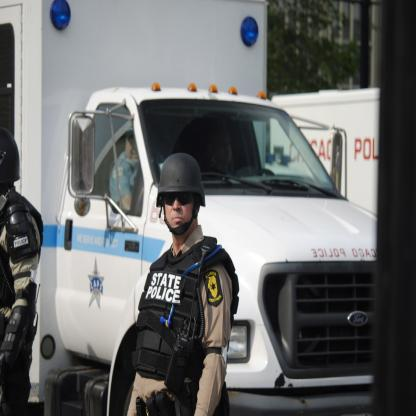Helmet: (155, 150, 206, 235), (2, 124, 18, 200)
